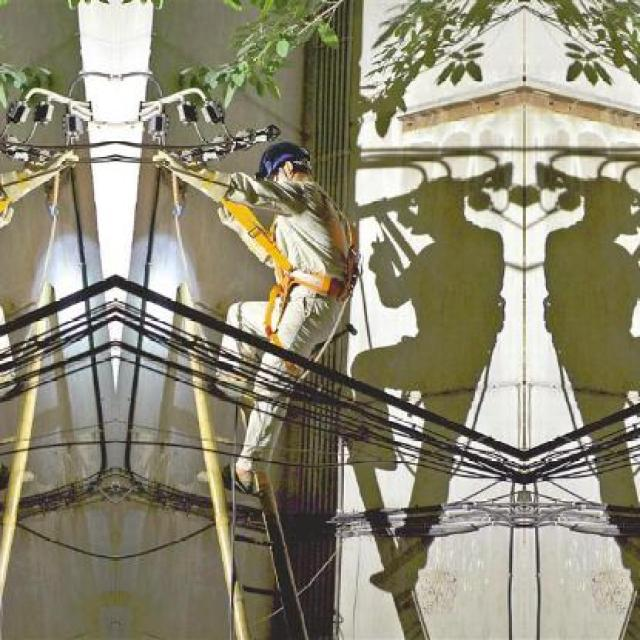helmet: (248, 134, 318, 198)
